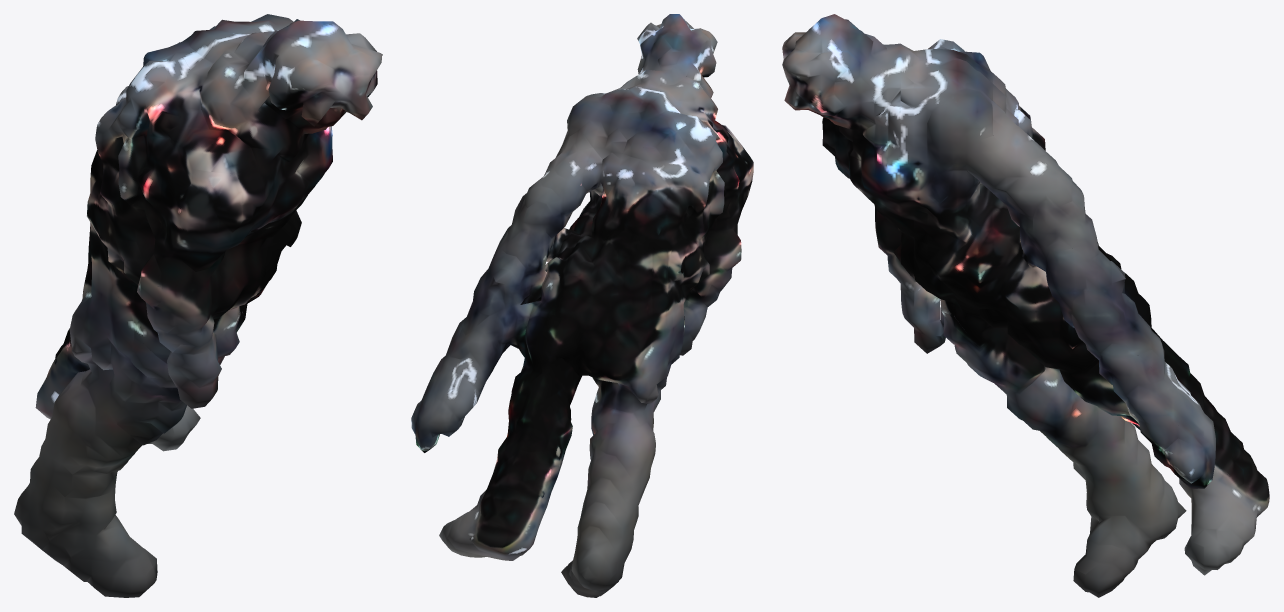
Rendered from cyber-preview.glb.
3 views of the same model, side by side, from view 1: azimuth 30°, elevation 25°; view 2: azimuth 150°, elevation 25°; view 3: azimuth 270°, elevation 25° (orthographic). The views are drawn at different scales.
Parts seen in each view (by area): view 1: mesh; view 2: mesh; view 3: mesh.
Part boxes in pixels (x1,y1,x2,y2): mesh: [14, 14, 382, 597]; mesh: [411, 14, 753, 597]; mesh: [782, 14, 1269, 597].
Size of the model in its own units: 0.4019 by 0.8965 by 0.6762.
1 material, 1 textured.
